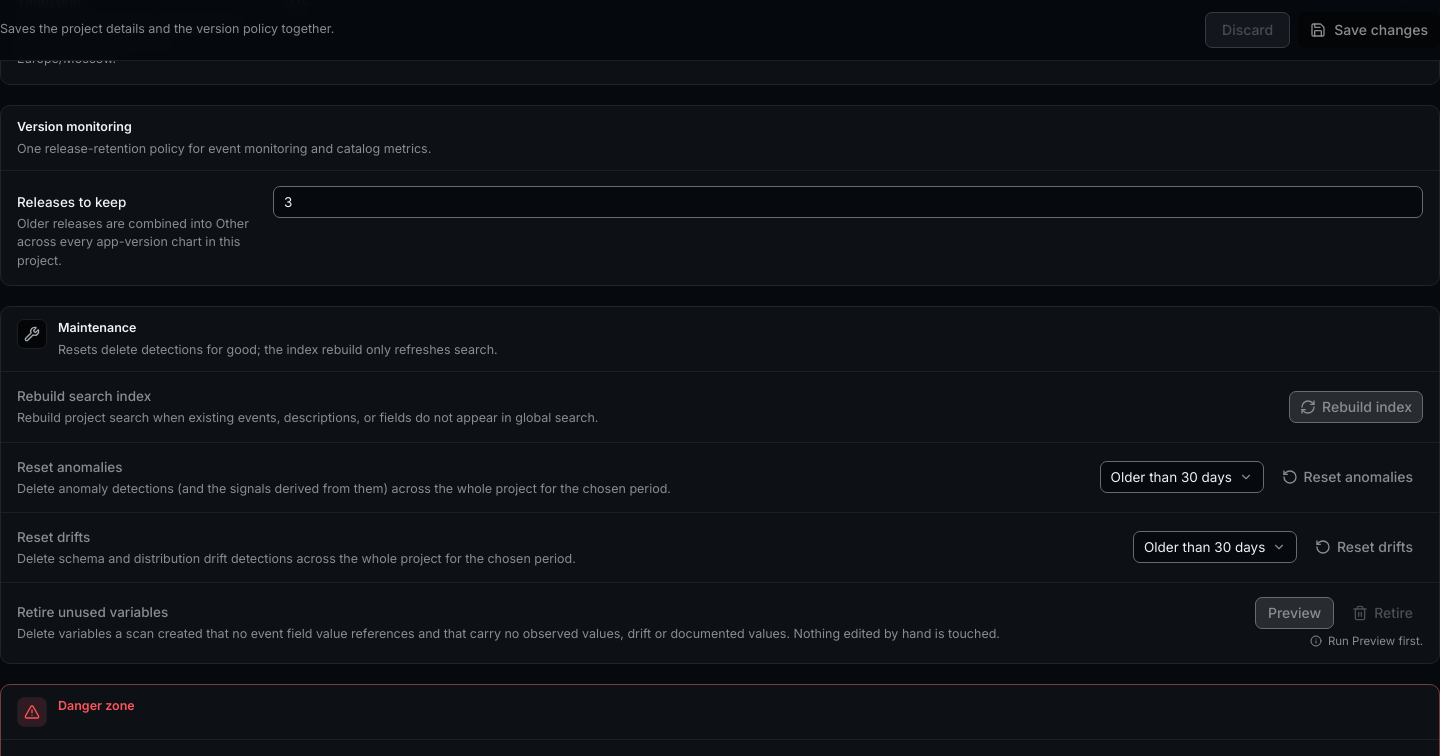
Test: ProjectGeneralSection › rebuilds the search index
The image size is (1440, 756).
(page scrolled)
Click the button "Rebuild index": [1356, 407] box top-left (1289, 391), bottom-right (1423, 423)
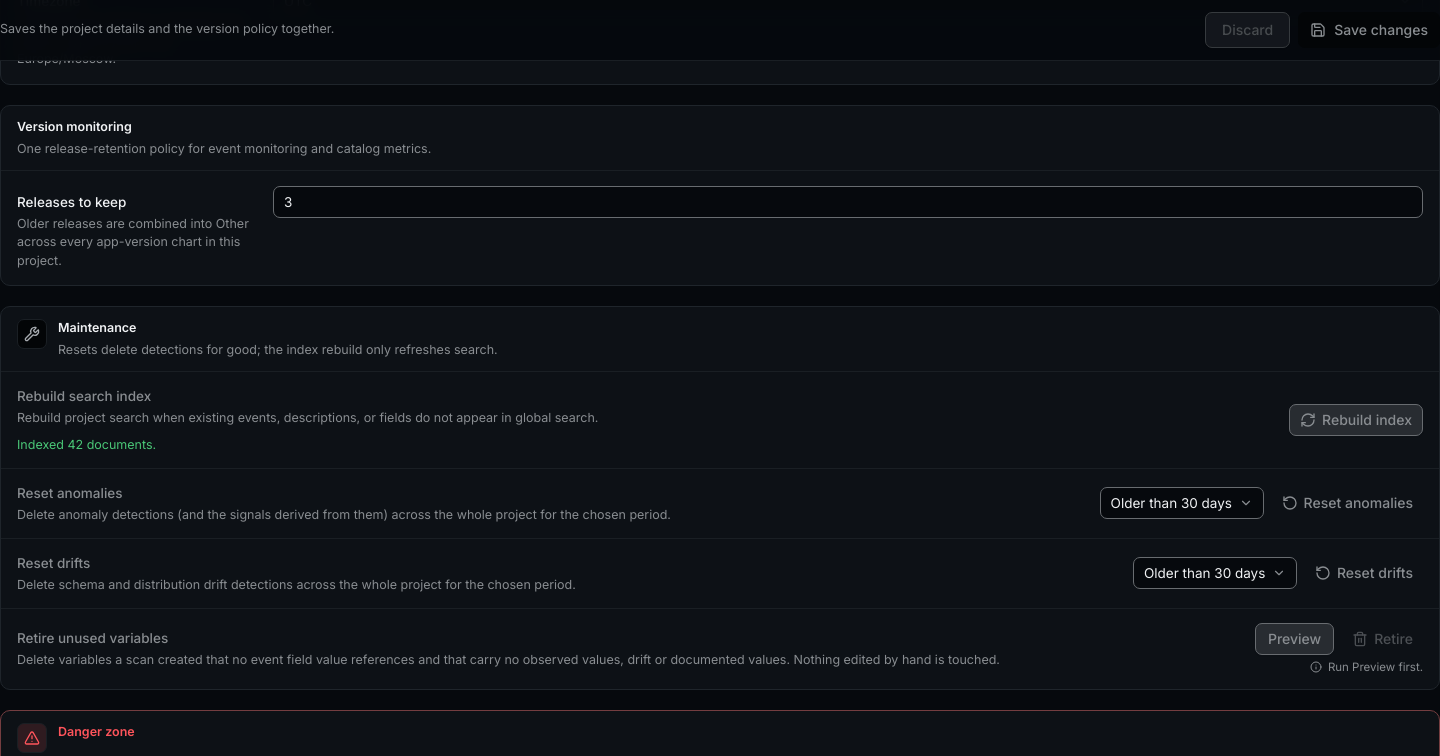
Expected: the text "Indexed 42 documents." is shown, top-left (17, 436), bottom-right (156, 452)
